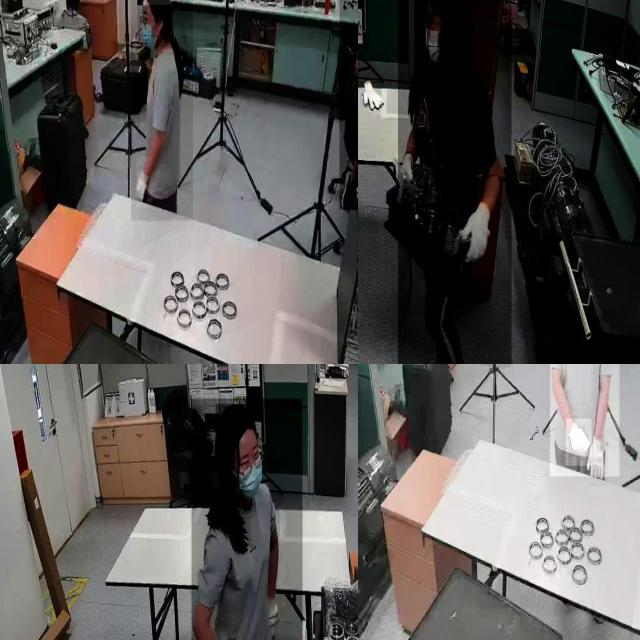face_mask: (227, 422, 269, 502), (422, 16, 444, 66), (138, 7, 158, 48)
glasses: (239, 450, 263, 480)
hand_glove: (458, 198, 496, 276), (566, 418, 592, 466), (591, 434, 609, 487), (395, 154, 417, 196), (137, 157, 153, 208)
hand_noglove: (344, 40, 356, 72)
head_nohelmet: (216, 404, 256, 430)
person: (398, 0, 512, 364), (191, 398, 302, 640), (130, 0, 193, 221), (550, 364, 620, 477), (339, 0, 358, 211)
shoes: (413, 346, 448, 364)
